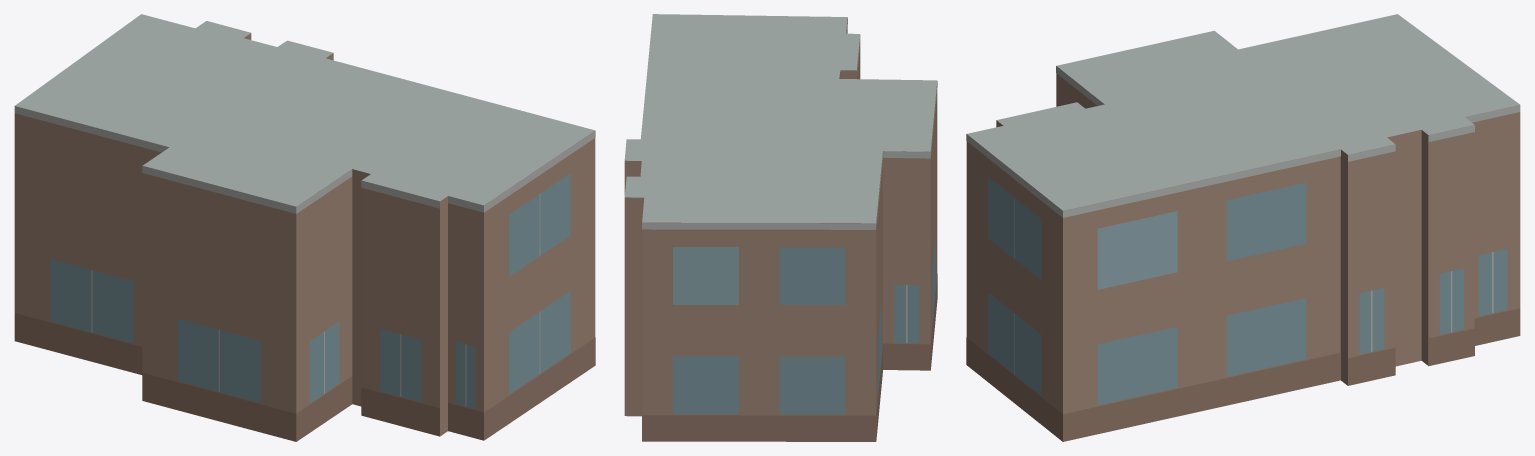
The model's file is survey-upis-32840108.glb.
The picture shows the model from 3 angles, left to right: view 1: azimuth 30°, elevation 25°; view 2: azimuth 150°, elevation 25°; view 3: azimuth 270°, elevation 25°; orthographic projection. The views are drawn at different scales.
Visible parts, largest first — view 1: survey-upis-32840108.tmp; view 2: survey-upis-32840108.tmp; view 3: survey-upis-32840108.tmp.
Boxes of the visible parts, x1,y1,x2,y2 form: survey-upis-32840108.tmp: (14,14,595,441); survey-upis-32840108.tmp: (624,14,937,441); survey-upis-32840108.tmp: (966,14,1520,441).
Size of the model in its own units: 14.44 by 7.9 by 17.17.
